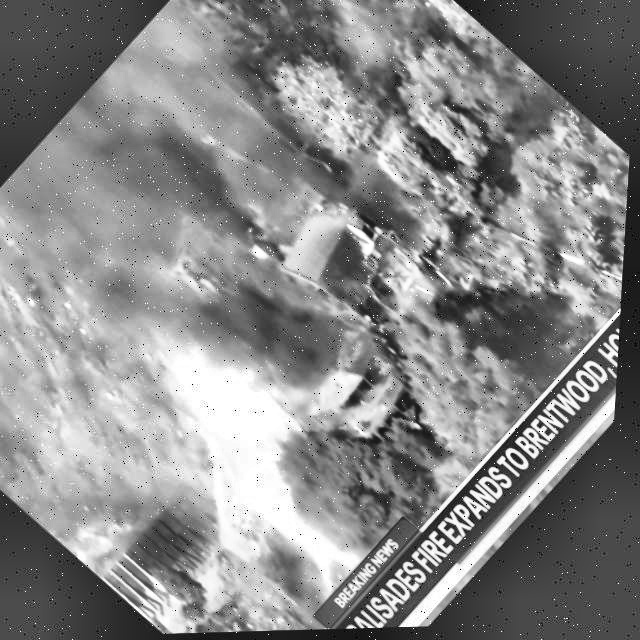Smoke: (14, 8, 298, 288)
